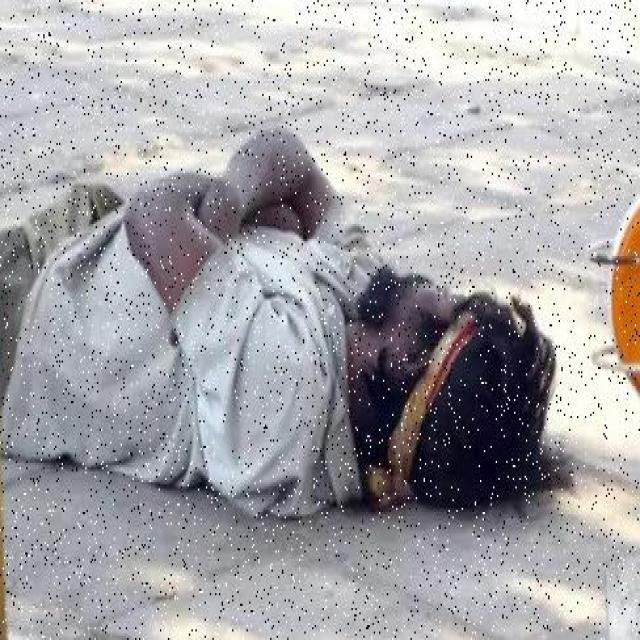fall: (4, 134, 552, 494)
